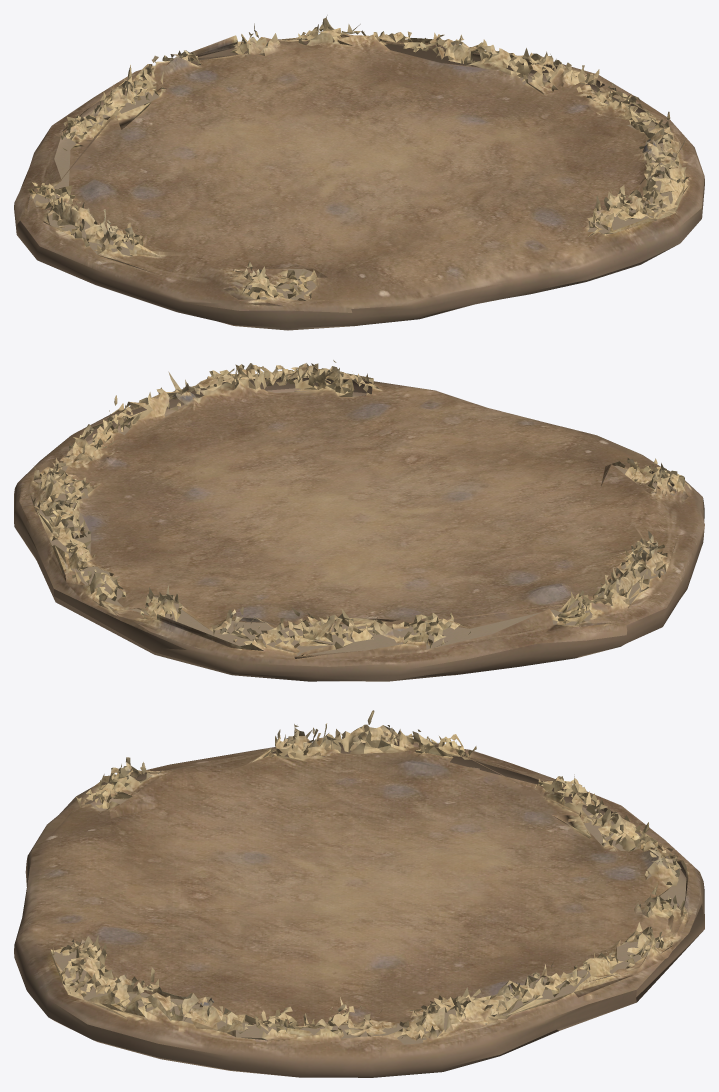
The model's file is meadows_worn_earth_a.glb.
The picture shows the model from 3 angles, top to bottom: view 1: azimuth 30°, elevation 25°; view 2: azimuth 150°, elevation 25°; view 3: azimuth 270°, elevation 25°; orthographic projection. The views are drawn at different scales.
Parts seen in each view (by area): view 1: Mesh_0; view 2: Mesh_0; view 3: Mesh_0.
Boxes of the visible parts, box(x1,y1,x2,y2) form: Mesh_0: box(14, 15, 704, 330); Mesh_0: box(14, 360, 704, 681); Mesh_0: box(14, 710, 704, 1077).
Bounding box in the file's own units: 1.9 × 0.1723 × 1.72.
1 material, 1 textured.
